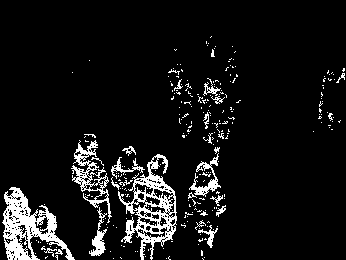person: (71, 130, 112, 253), (135, 151, 176, 260), (185, 158, 227, 256), (110, 145, 142, 244), (30, 205, 76, 260), (4, 184, 37, 260)
